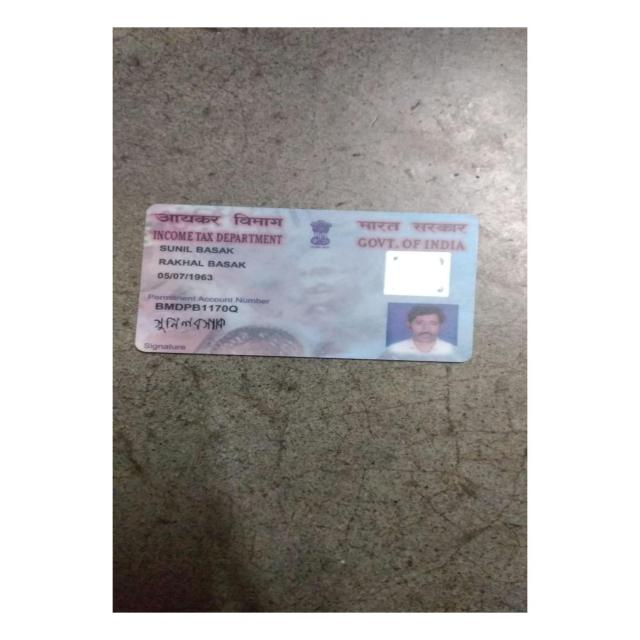pan_card: (134, 205, 478, 363)
